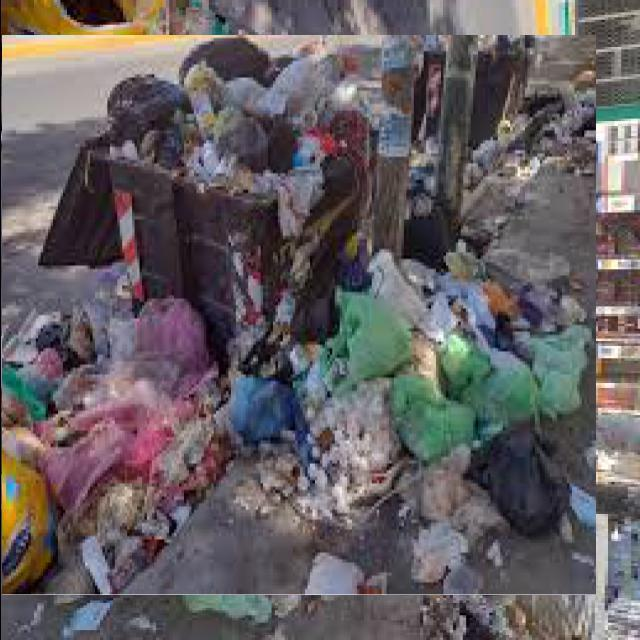Trashbag: (460, 425, 572, 537), (100, 72, 186, 144), (171, 34, 274, 90)
